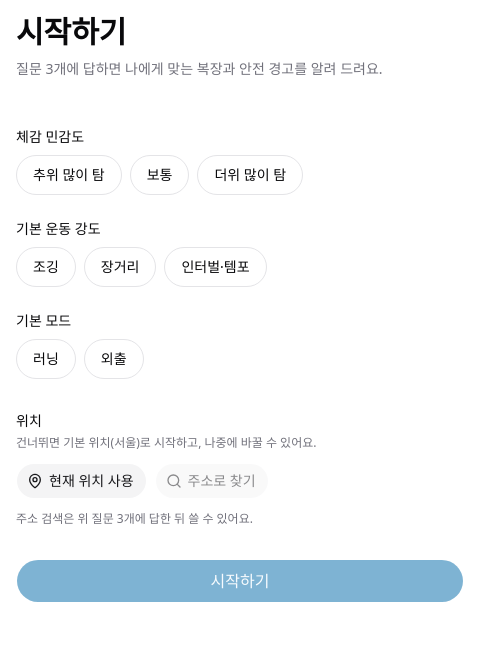
OnboardingScreen › 권한이 거부되면 원인 안내와 iOS 설정 경로를 보여 준다
Click the button "현재 위치 사용". click: (81, 480)
box: left=16, top=462, right=147, bottom=498
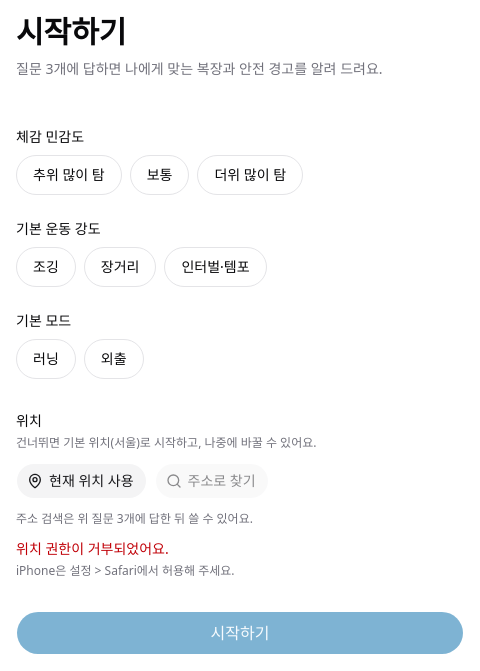
Result: the message shows "위치 권한이 거부되었어요." at left=16, top=538, right=169, bottom=558
Result: the text "iPhone은 설정 > Safari에서 허용해 주세요." is shown at left=16, top=562, right=235, bottom=578
